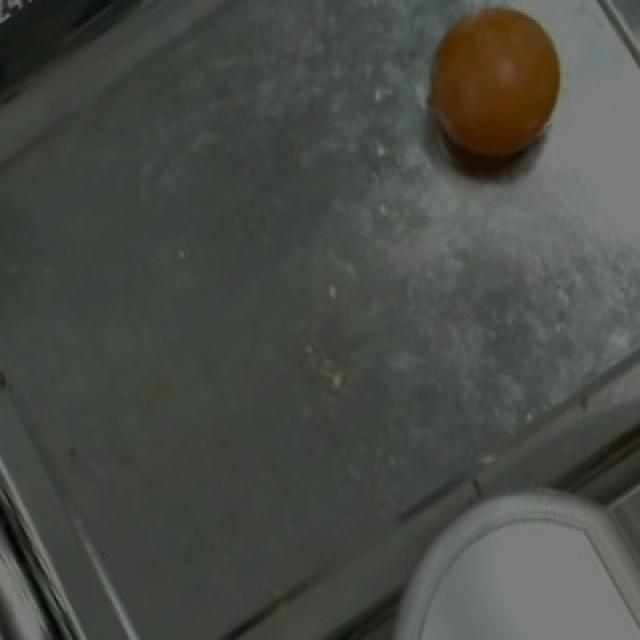Fruit: (404, 0, 586, 184), (398, 503, 640, 640)
